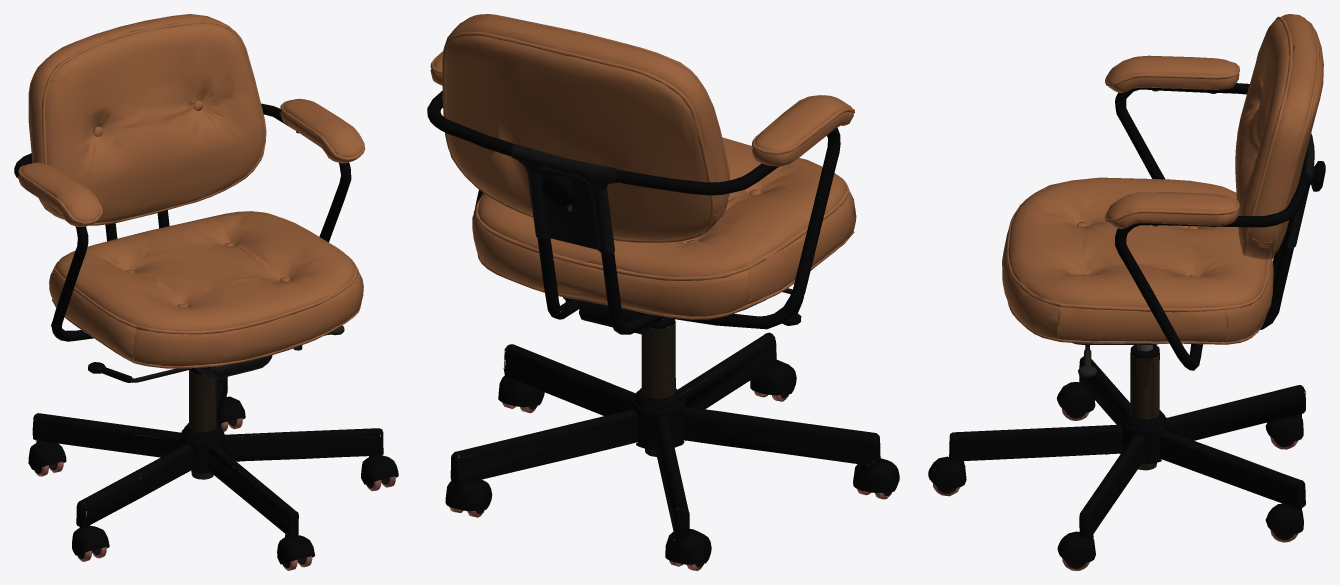
The picture shows the model from 3 angles, left to right: view 1: azimuth 30°, elevation 25°; view 2: azimuth 150°, elevation 25°; view 3: azimuth 270°, elevation 25°; orthographic projection. The views are drawn at different scales.
Visible parts, largest first — view 1: 1; view 2: 1; view 3: 1.
Part boxes in pixels (x1,y1,x2,y2): 1: (14,14,398,570); 1: (427,14,899,570); 1: (928,14,1325,570).
Bounding box in the file's own units: 0.6744 × 0.8458 × 0.6852.
1 material, 1 textured.
